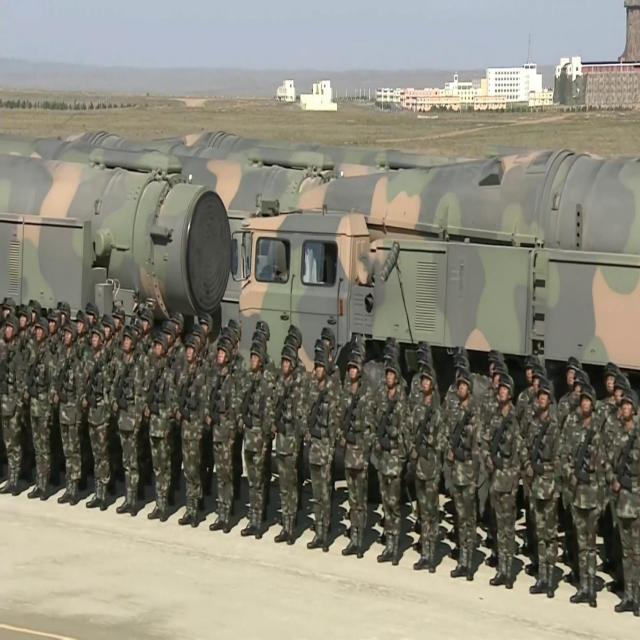Soldier: (562, 385, 600, 602), (521, 382, 559, 598), (445, 372, 483, 580), (605, 393, 640, 614), (373, 358, 407, 568), (306, 353, 341, 552), (488, 375, 518, 596), (410, 363, 440, 578), (272, 345, 304, 545), (241, 344, 271, 540), (343, 353, 367, 562), (212, 341, 238, 533), (85, 324, 110, 512), (149, 336, 174, 523), (117, 333, 142, 514), (179, 337, 202, 530), (31, 319, 54, 500), (1, 316, 22, 499), (63, 326, 82, 504), (46, 308, 62, 378), (17, 304, 31, 376), (101, 314, 116, 378), (76, 312, 88, 366)
